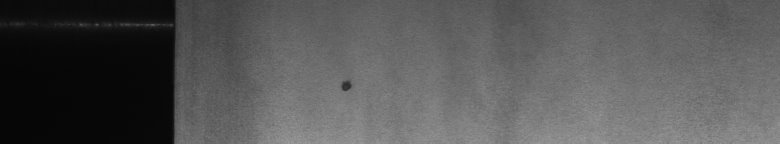fi: (335, 73, 359, 98)
